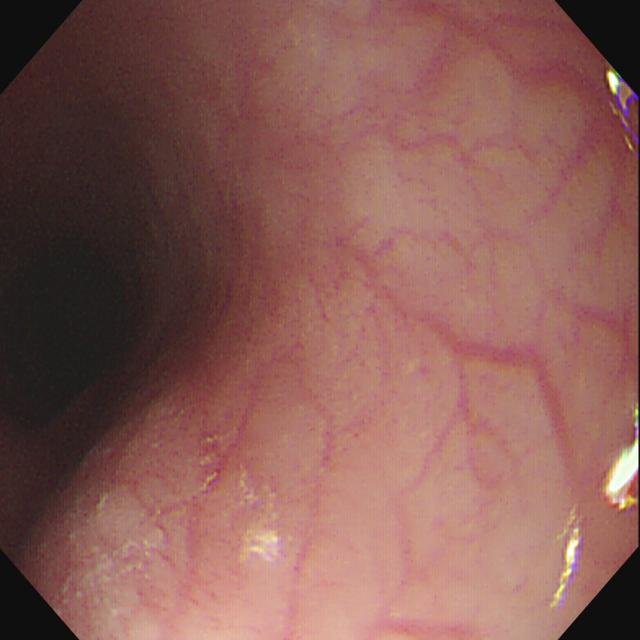A: (182, 408, 251, 511)
E: (12, 263, 110, 371)
J: (61, 486, 165, 607), (240, 461, 283, 565)
U: (602, 405, 640, 515), (551, 505, 585, 607), (606, 69, 640, 154)
